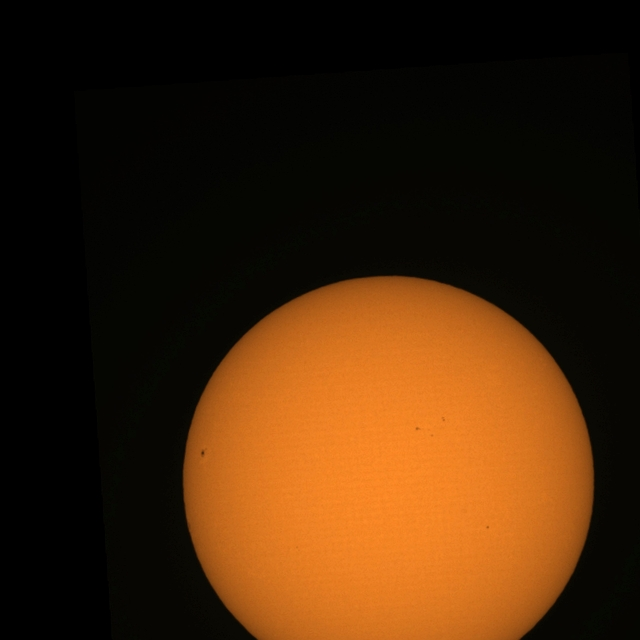sunspot: (415, 425, 437, 437), (200, 447, 207, 458), (414, 426, 422, 432), (441, 416, 446, 423), (485, 524, 490, 530), (430, 433, 434, 438)
